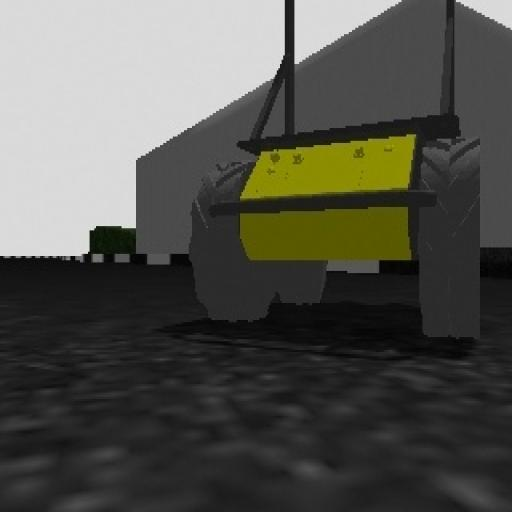huskya200: (188, 0, 487, 350)
